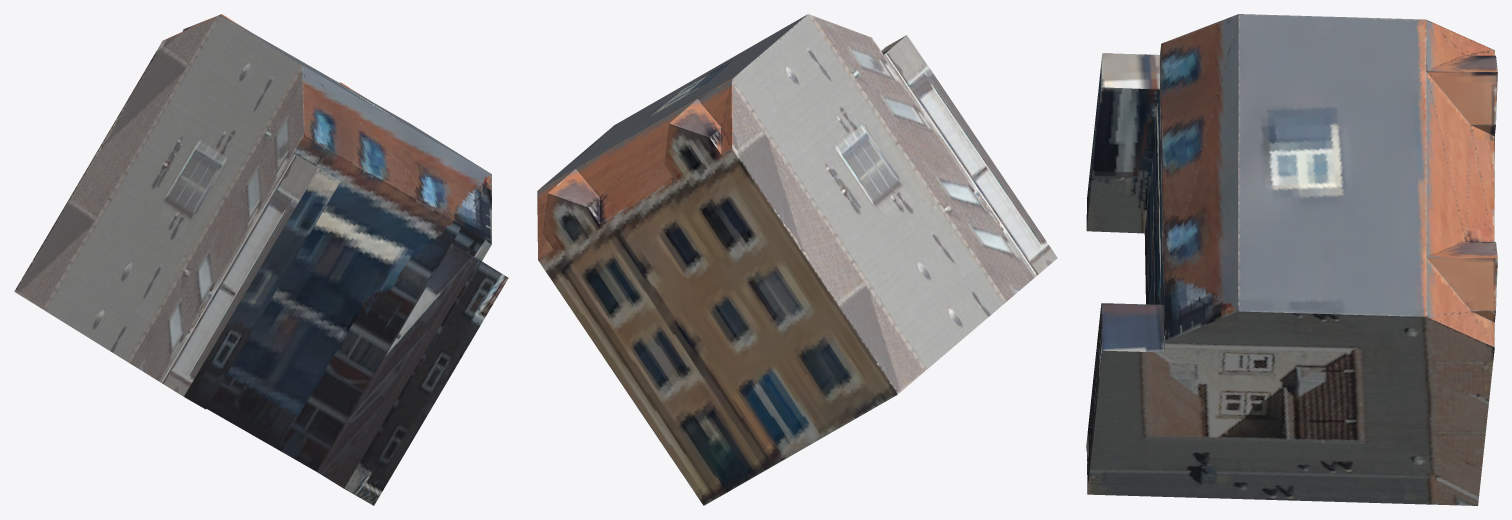
3 views of the same model, side by side, from view 1: azimuth 30°, elevation 25°; view 2: azimuth 150°, elevation 25°; view 3: azimuth 270°, elevation 25° (orthographic). The views are drawn at different scales.
Parts seen in each view (by area): view 1: BAG_0599100000670815 (×4); view 2: BAG_0599100000670815 (×4); view 3: BAG_0599100000670815 (×4).
Boxes of the visible parts, bbox=[...] form: BAG_0599100000670815 (×4): bbox=[14, 14, 508, 505]; BAG_0599100000670815 (×4): bbox=[537, 14, 1057, 505]; BAG_0599100000670815 (×4): bbox=[1086, 14, 1497, 505].
Size of the model in its own units: 16.55 by 17.15 by 13.04.
Materials: 1 (1 with a texture image).
